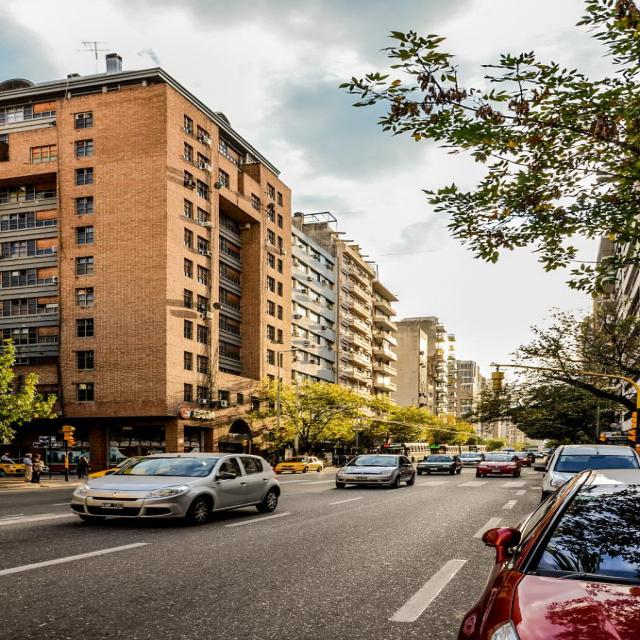car: (64, 449, 288, 522), (328, 450, 414, 488), (473, 447, 519, 476), (275, 451, 325, 473), (411, 453, 458, 473)
